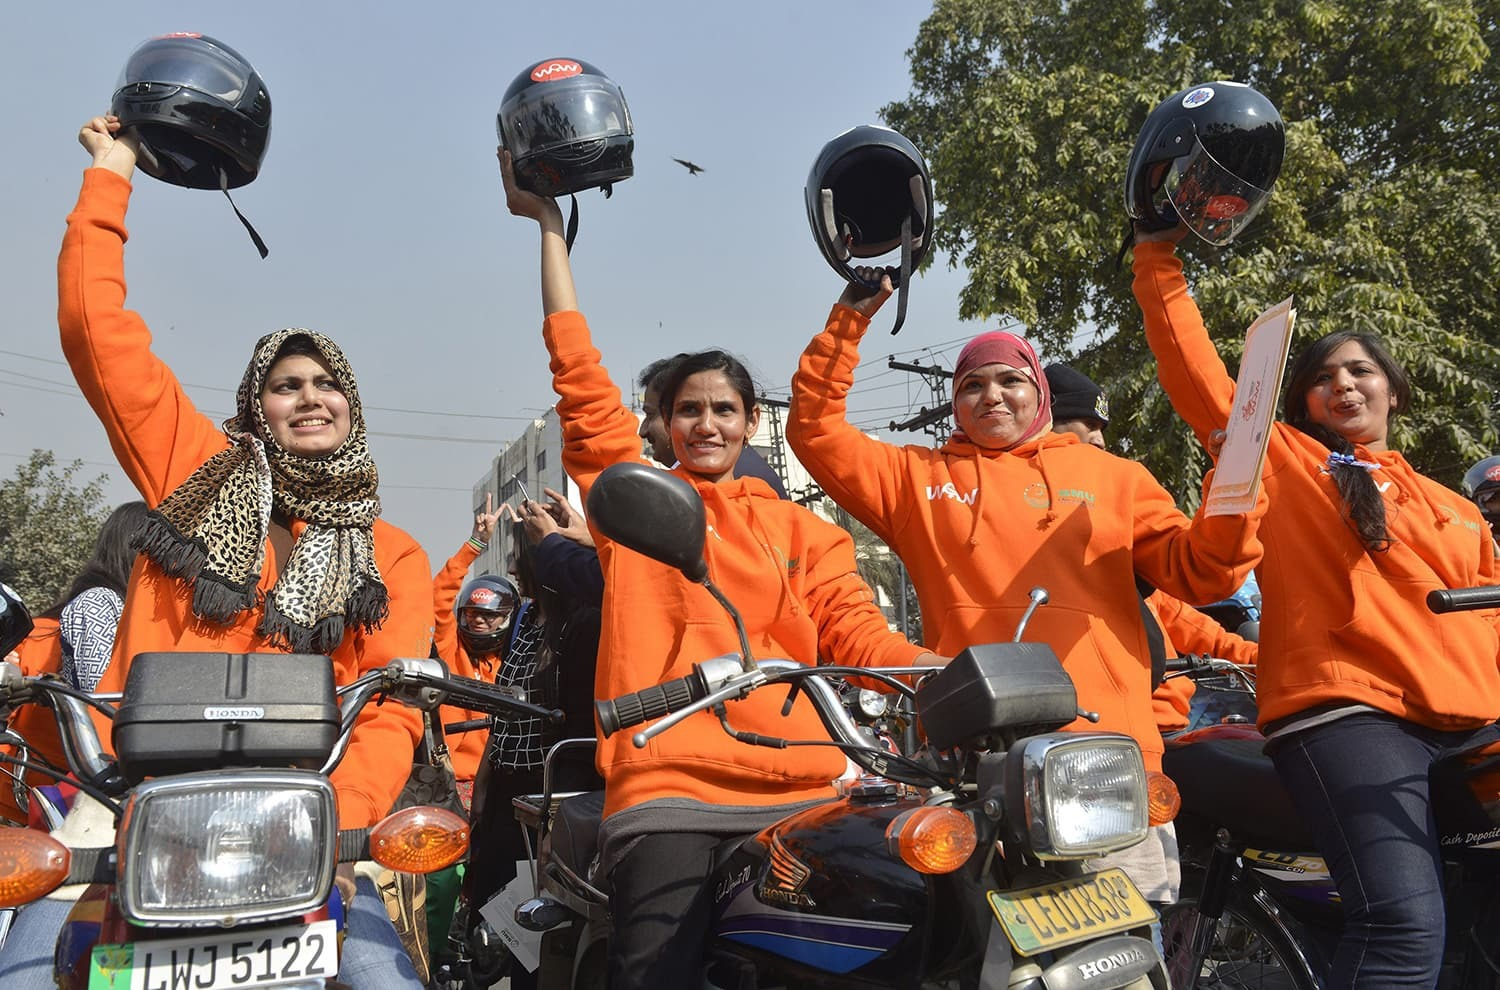with_helmet: (1131, 76, 1277, 268), (112, 31, 272, 196), (801, 119, 943, 267), (495, 54, 640, 180)
